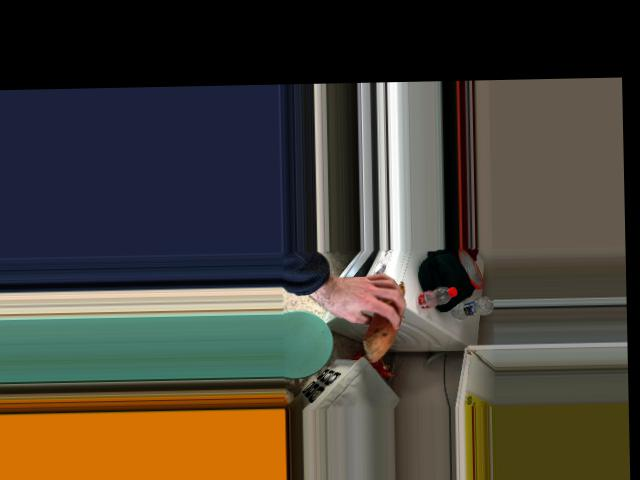sweet_potato: (368, 278, 405, 355)
